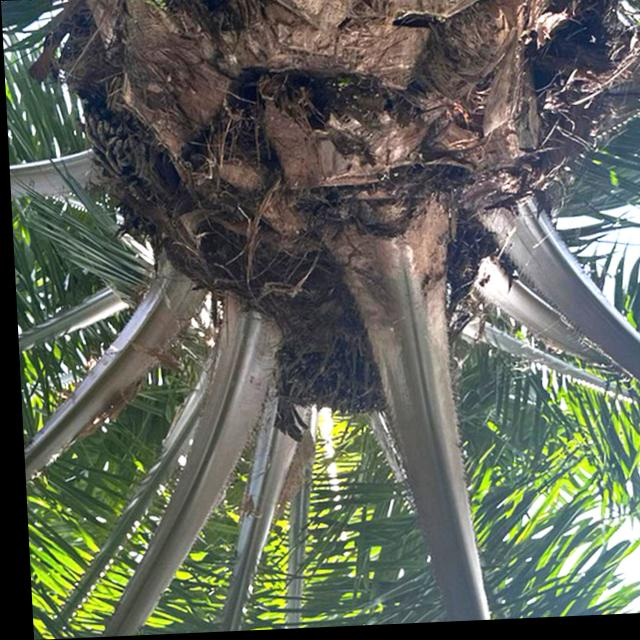unripe: (263, 325, 385, 428)
